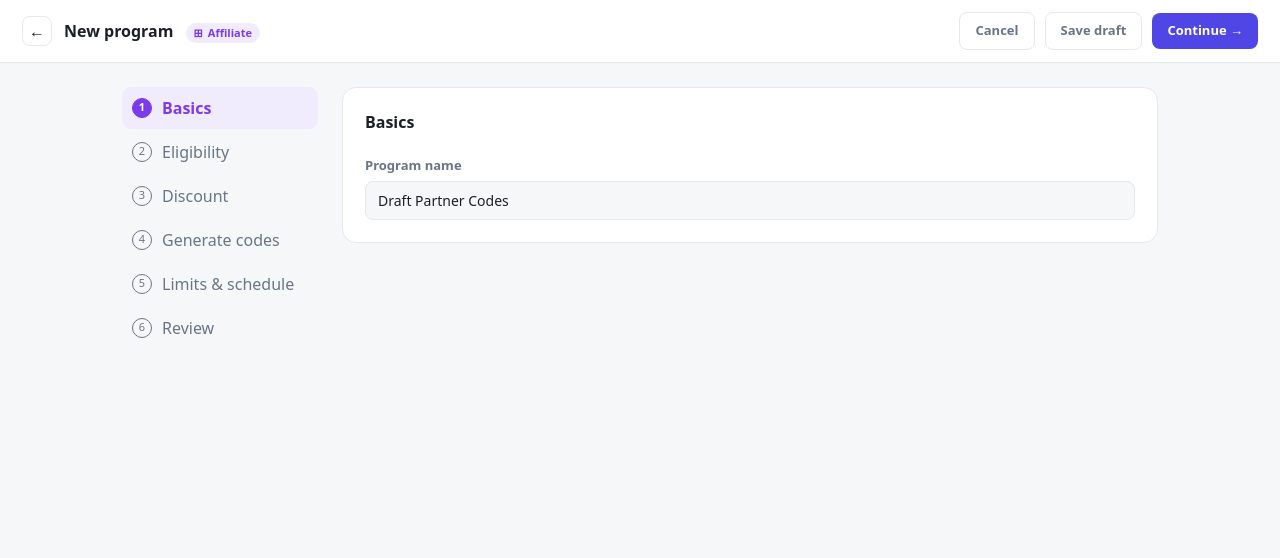
Test: editing a draft affiliate shows "Save changes" button on review step
Click the button "Continue →".
click(1205, 31)  # box 1152,13 -> 1258,48
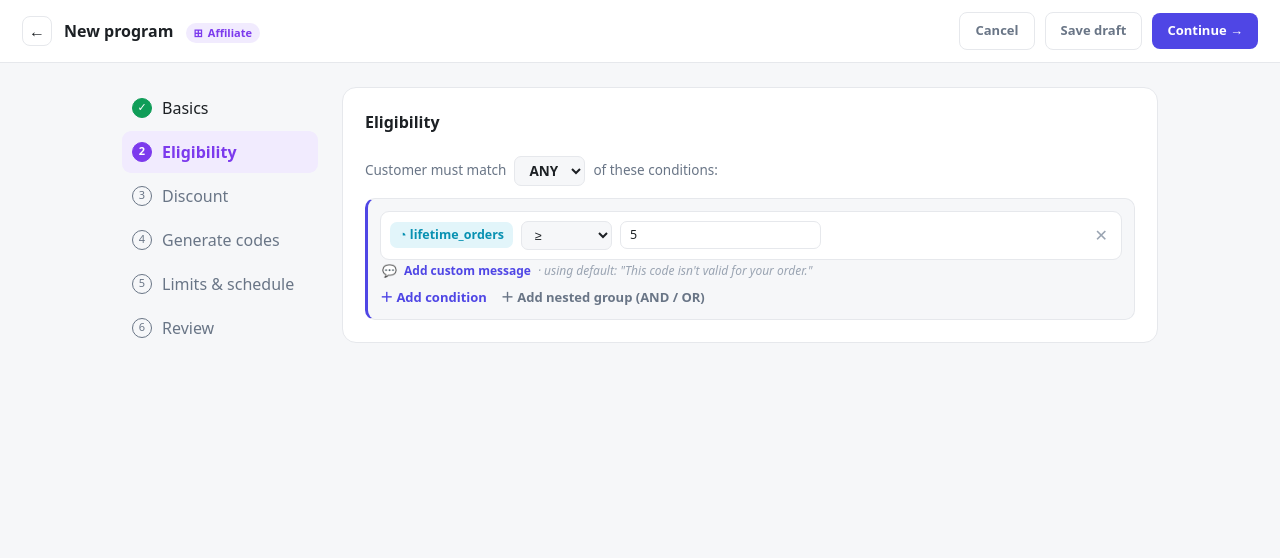
Click the button "Continue →".
click(1205, 31)  # box 1152,13 -> 1258,48
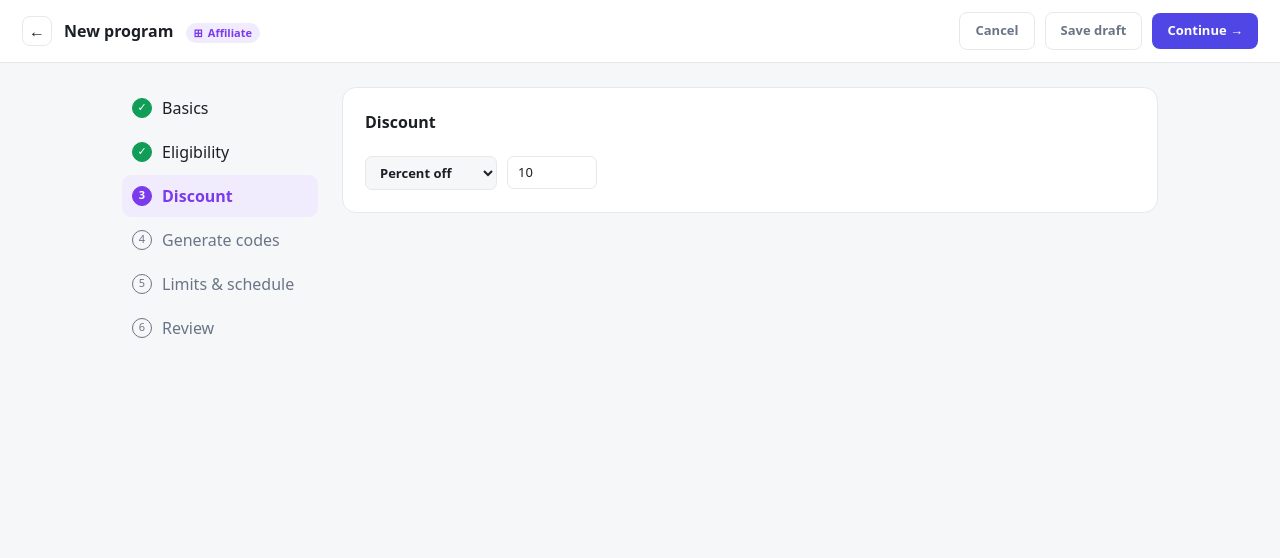
Click the button "Continue →".
click(1205, 31)  # box 1152,13 -> 1258,48
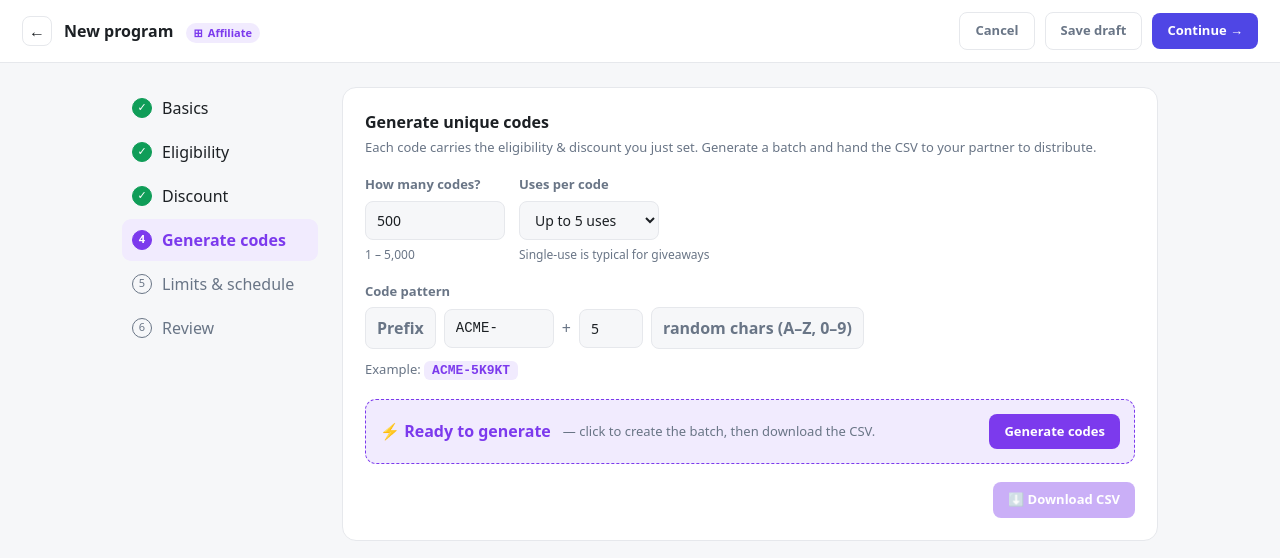
Click the button "Continue →".
click(1205, 31)  # box 1152,13 -> 1258,48
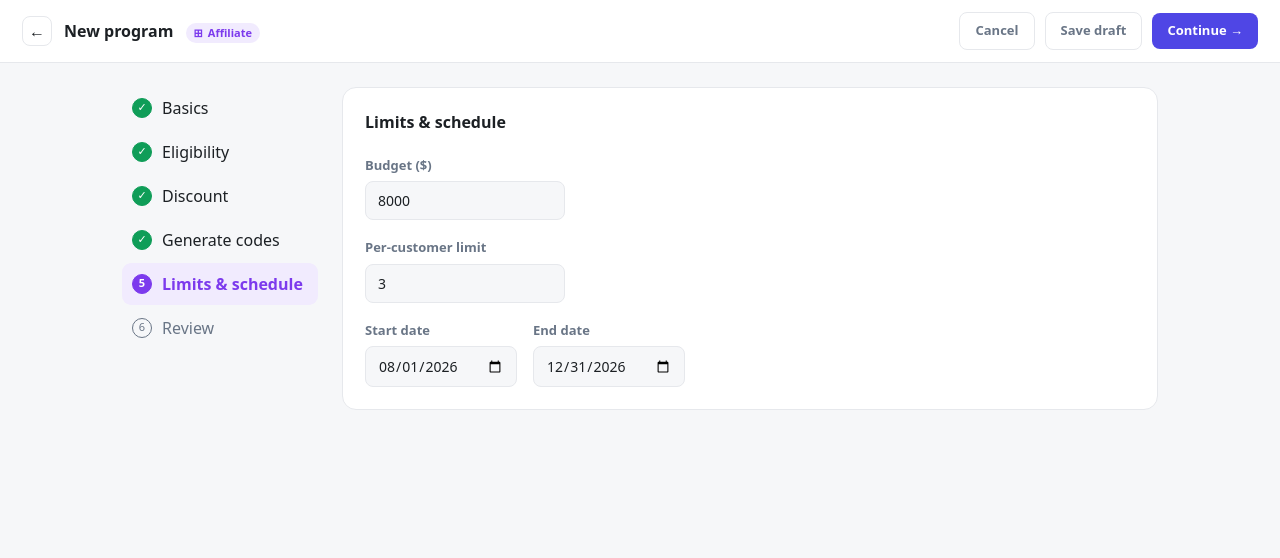
Click the button "Continue →".
click(1205, 31)  # box 1152,13 -> 1258,48
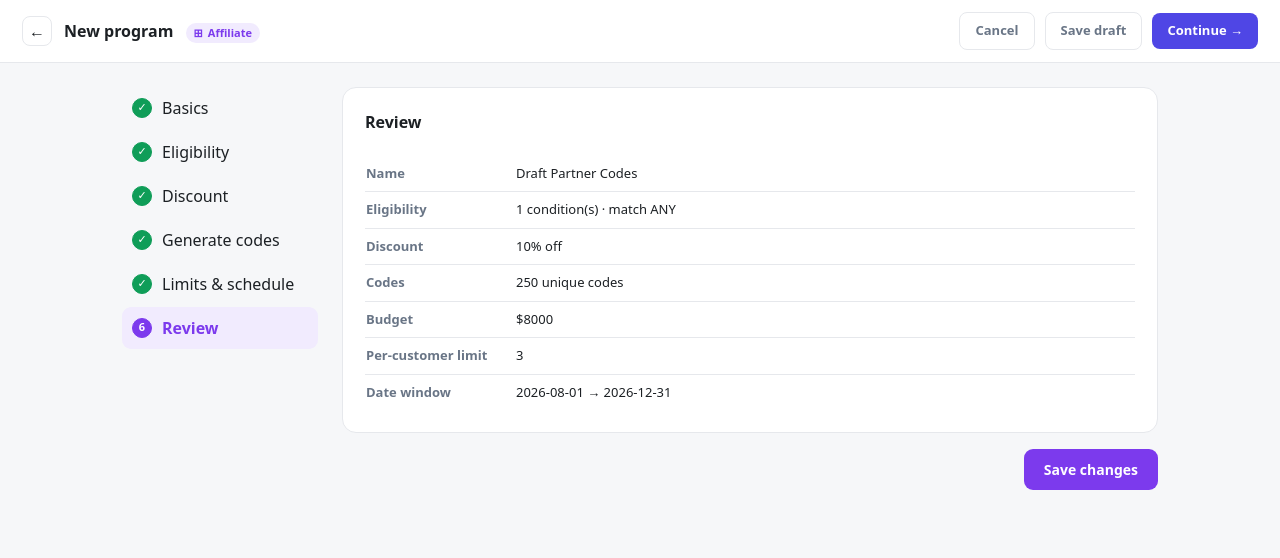
Check: the button "Save changes" is shown, box 1024,449 -> 1158,490
